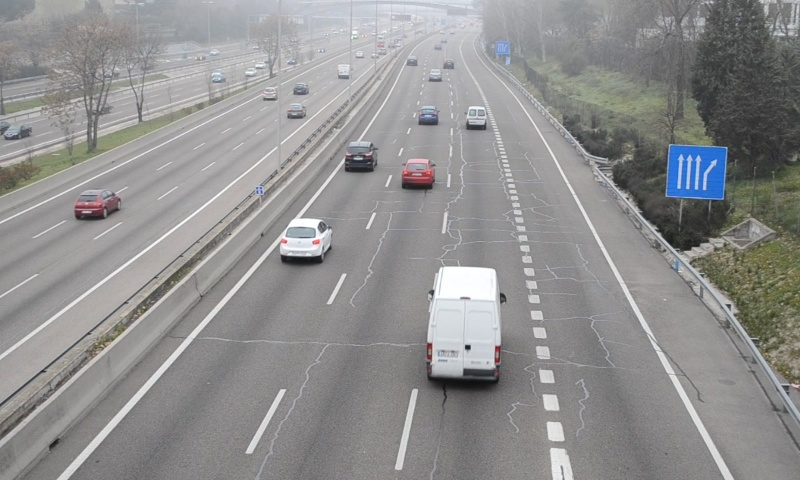car: (280, 218, 333, 257), (344, 141, 377, 170), (401, 158, 433, 186), (417, 105, 439, 125)
van: (425, 267, 502, 384), (466, 106, 488, 130)
